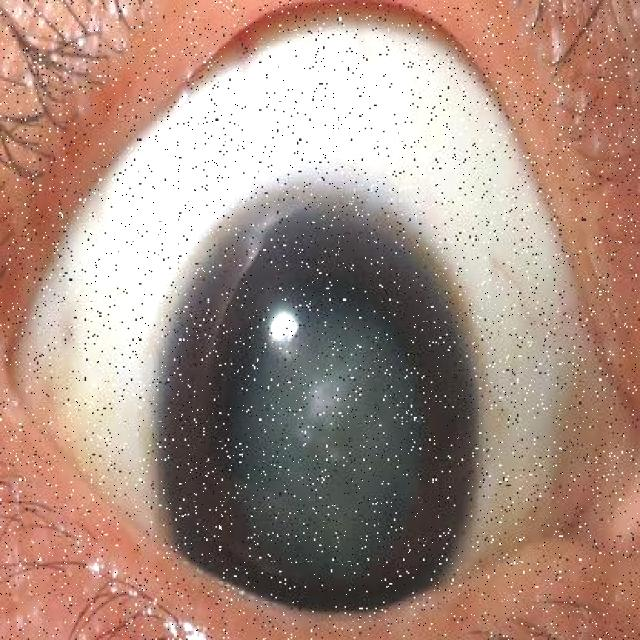Cataract: (142, 158, 489, 634)
